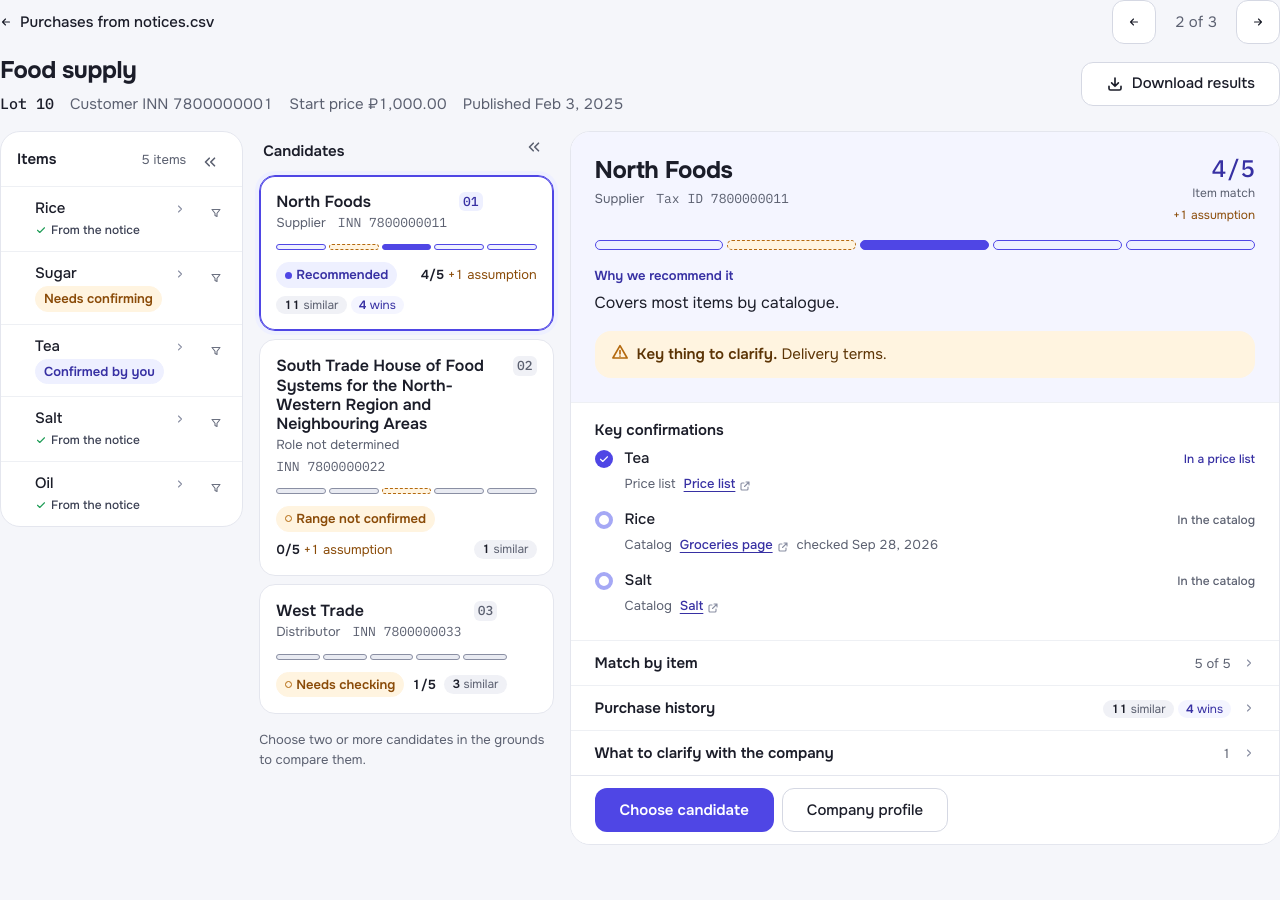
Test: choosing, comparing and the profile › says when a profile has no contacts, role basis or sources
Expected: the heading "Food supply" is shown, [0,55,136,85]
What coordinates should you click on to do the following:
click the button named "South Trade House of Food Systems for the North-Western Region and Neighbouring Areas"
I would click on:
 (380, 366)
Its box is [259,339,554,576].
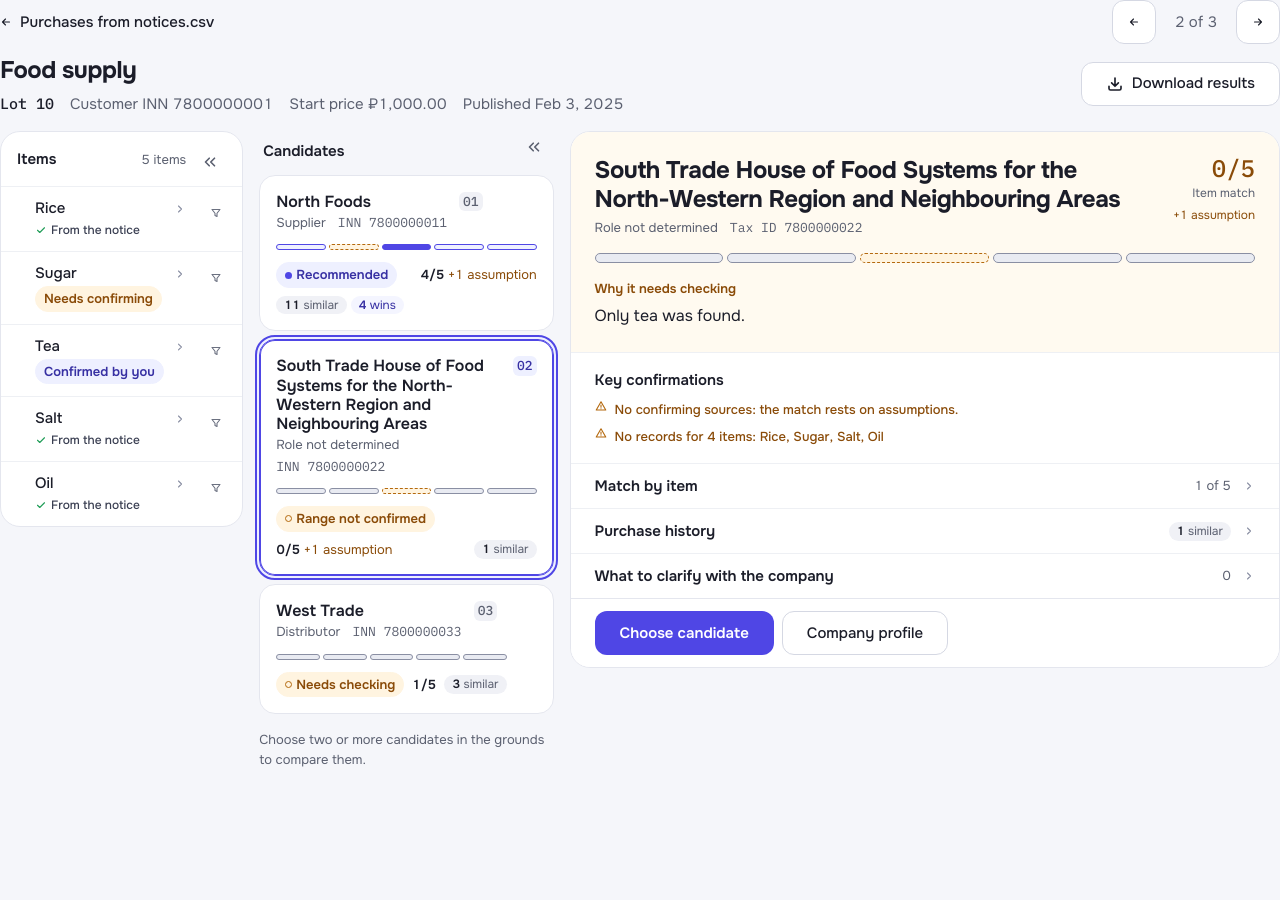
What coordinates should you click on to do the following:
click the button "Company profile"
I would click on:
 (865, 633)
Its box is [782,611,948,655].
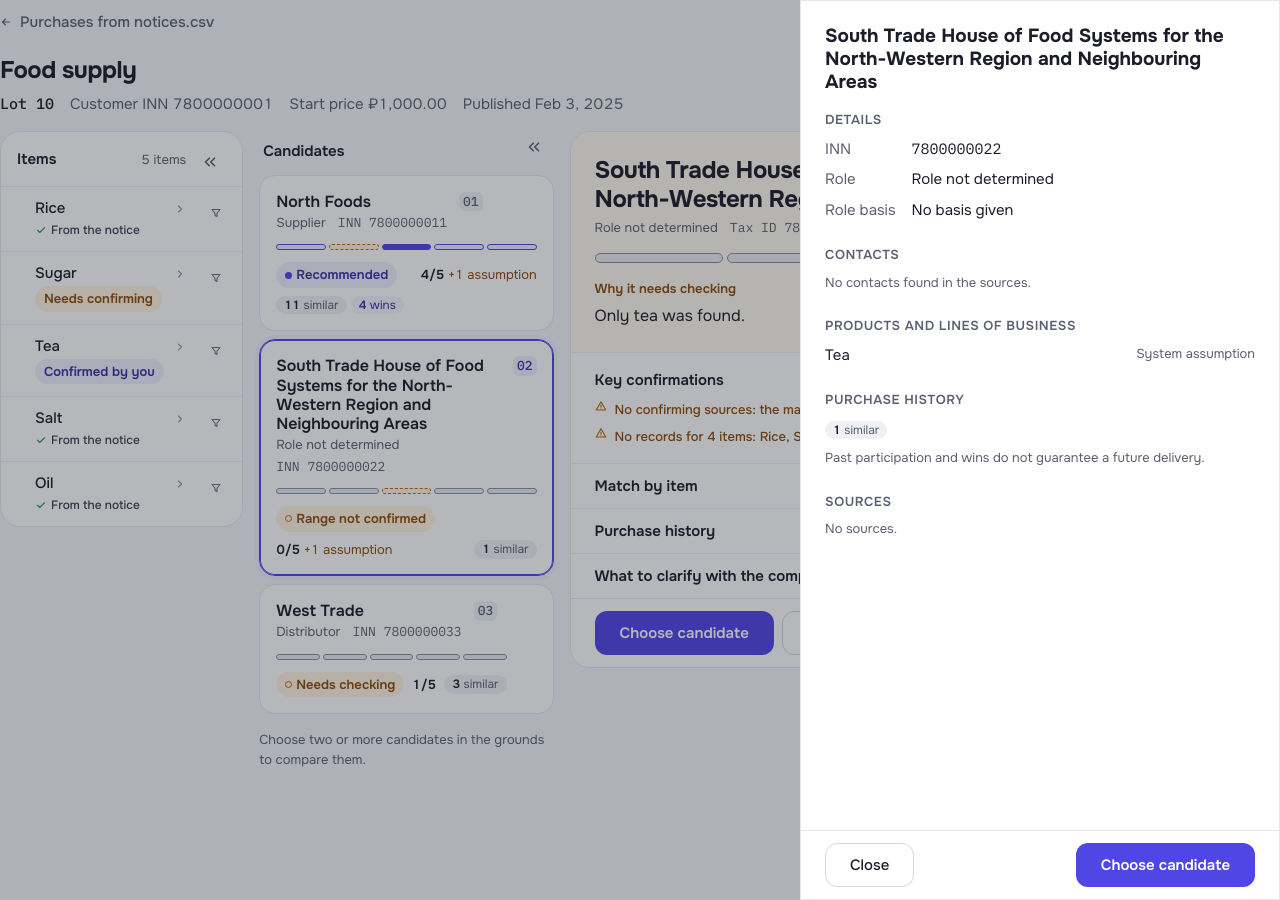
Expected: the text "No contacts found in the sources." is shown, [825,274,1031,291]
Expected: the text "No basis given" is shown, [912,200,1013,220]
Expected: the text "No sources." is shown, [825,520,897,537]
